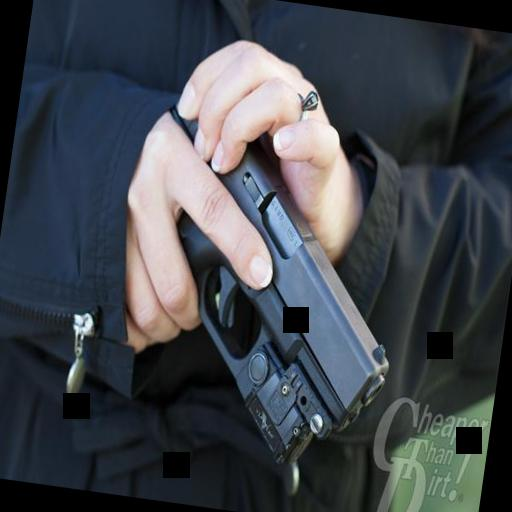Handgun: (108, 81, 417, 499)
